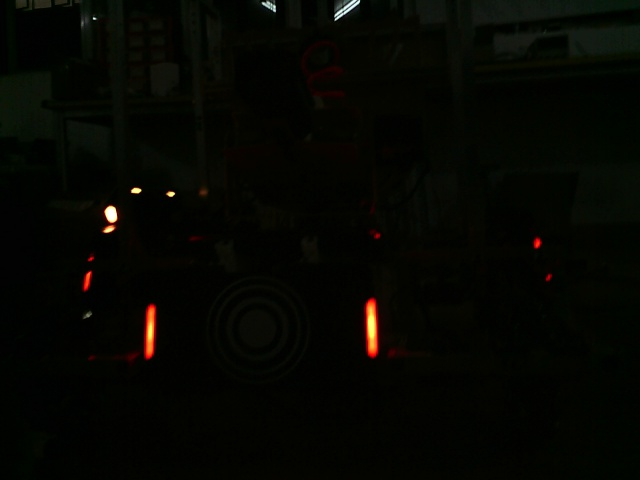lamp: (357, 298, 384, 360), (137, 302, 160, 362)
